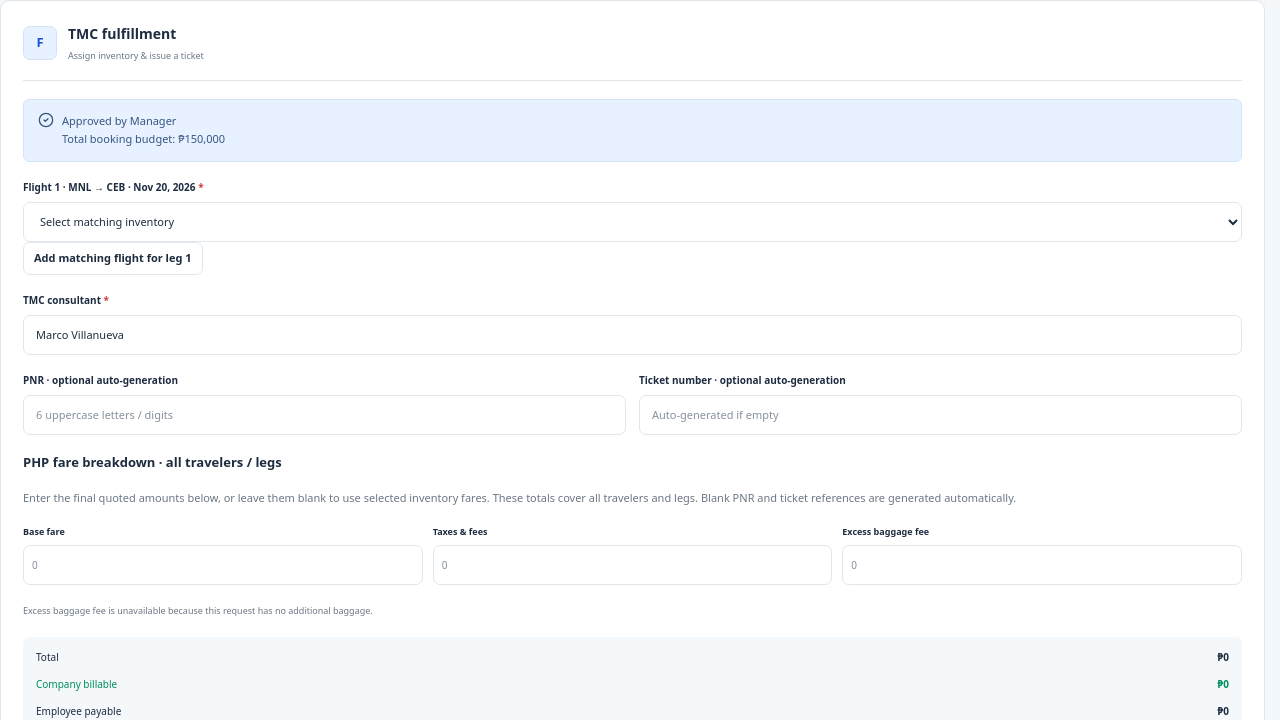
Test: disables baggage fees without baggage and blocks malformed quotes/references
The width and height of the screenshot is (1280, 720).
Select "PR 2845 · Philippine Airlines · 120 seats" in the dropdown labelled "Flight 1 · MNL → CEB · Nov 20, 2026 *" at x=632, y=222, box x1=23 y1=202 x2=1242 y2=242
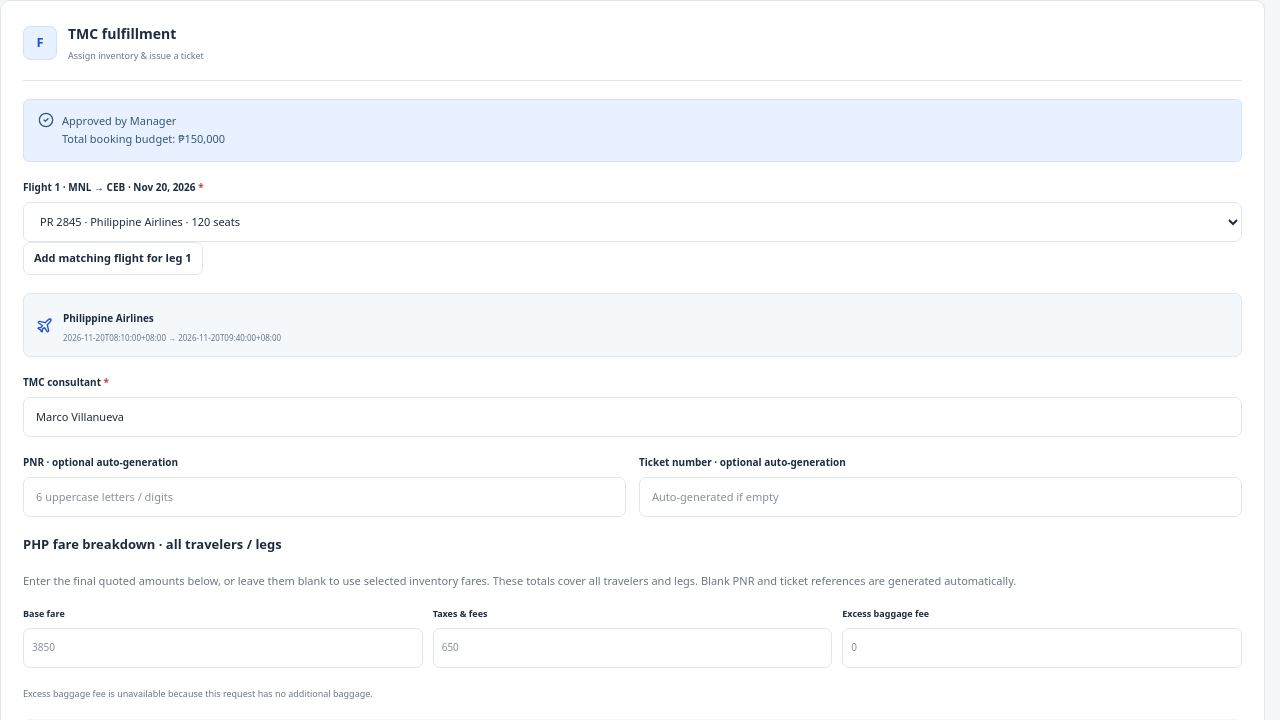
Check: the number field labelled "Excess baggage fee" is disabled, box x1=842 y1=628 x2=1242 y2=668
Type "-1" into the number field labelled "Base fare" at x=223, y=648, box x1=23 y1=628 x2=423 y2=668
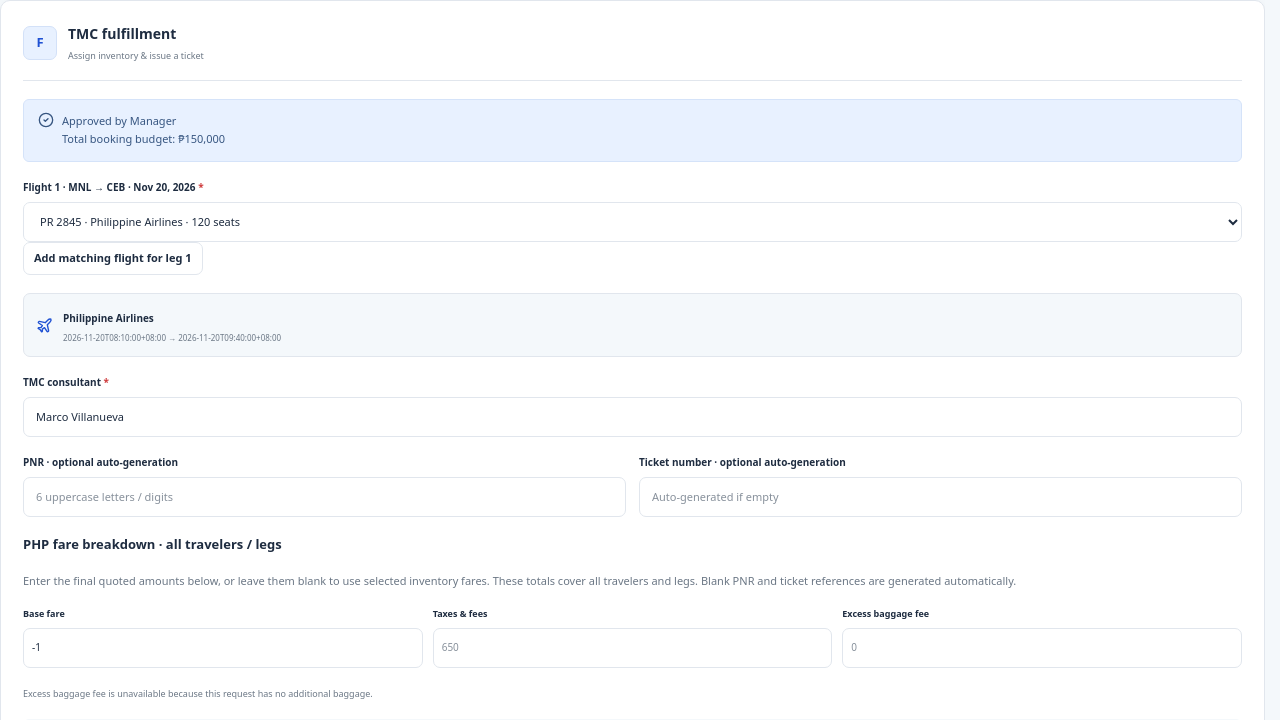
Replace the text in the number field labelled "Base fare" with "1.001" at x=223, y=648, box x1=23 y1=628 x2=423 y2=668
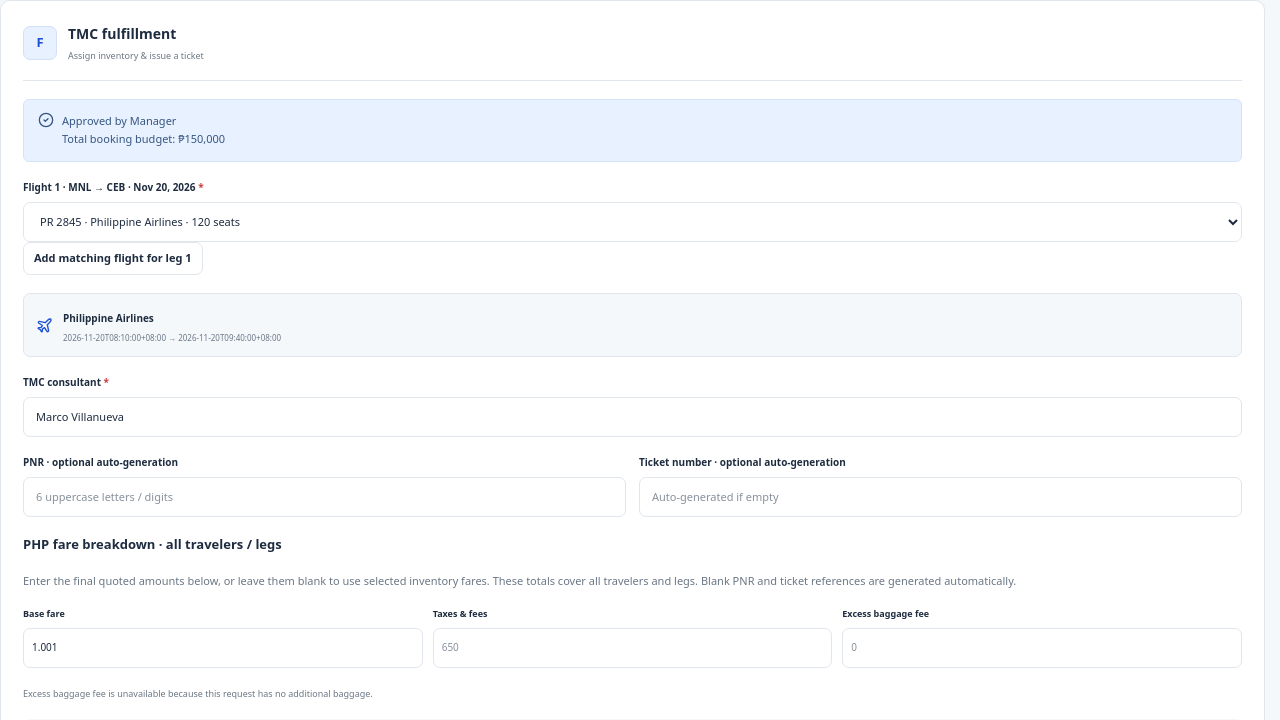
Replace the text in the number field labelled "Base fare" with "100" at x=223, y=648, box x1=23 y1=628 x2=423 y2=668
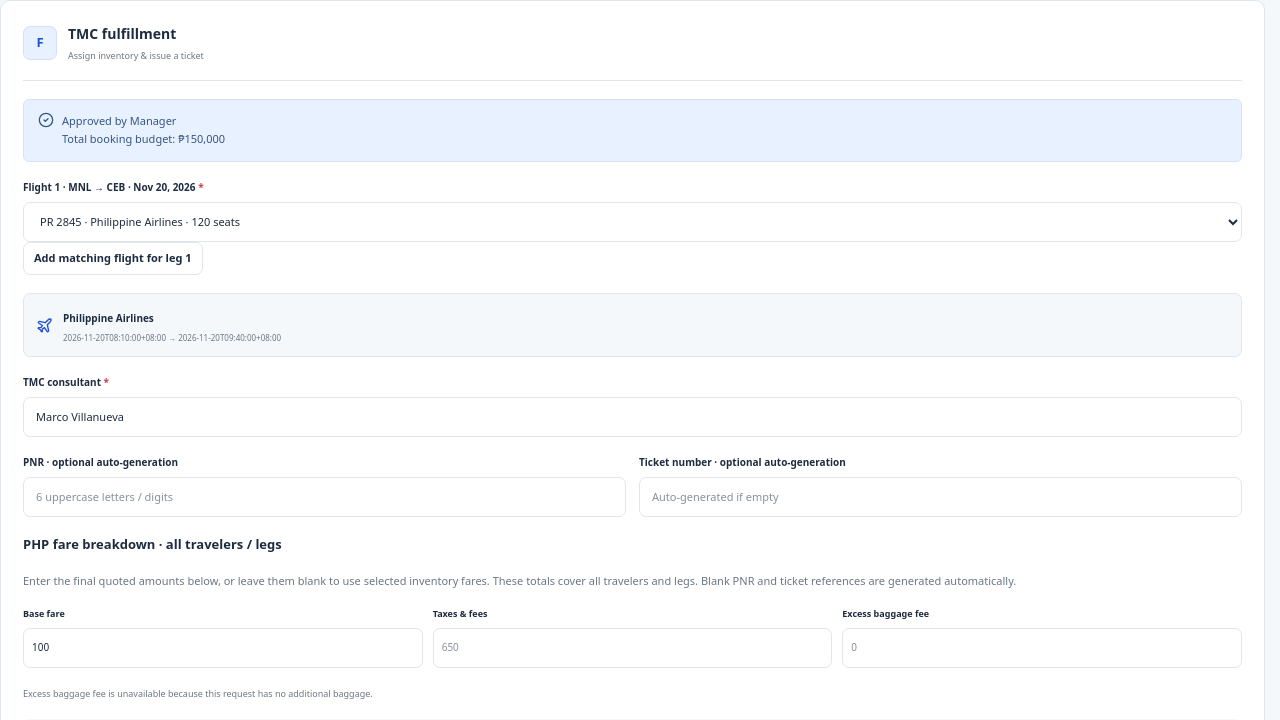
Type "BAD" into the field labelled "PNR · optional auto-generation" at x=324, y=498, box x1=23 y1=478 x2=626 y2=518
(page scrolled)
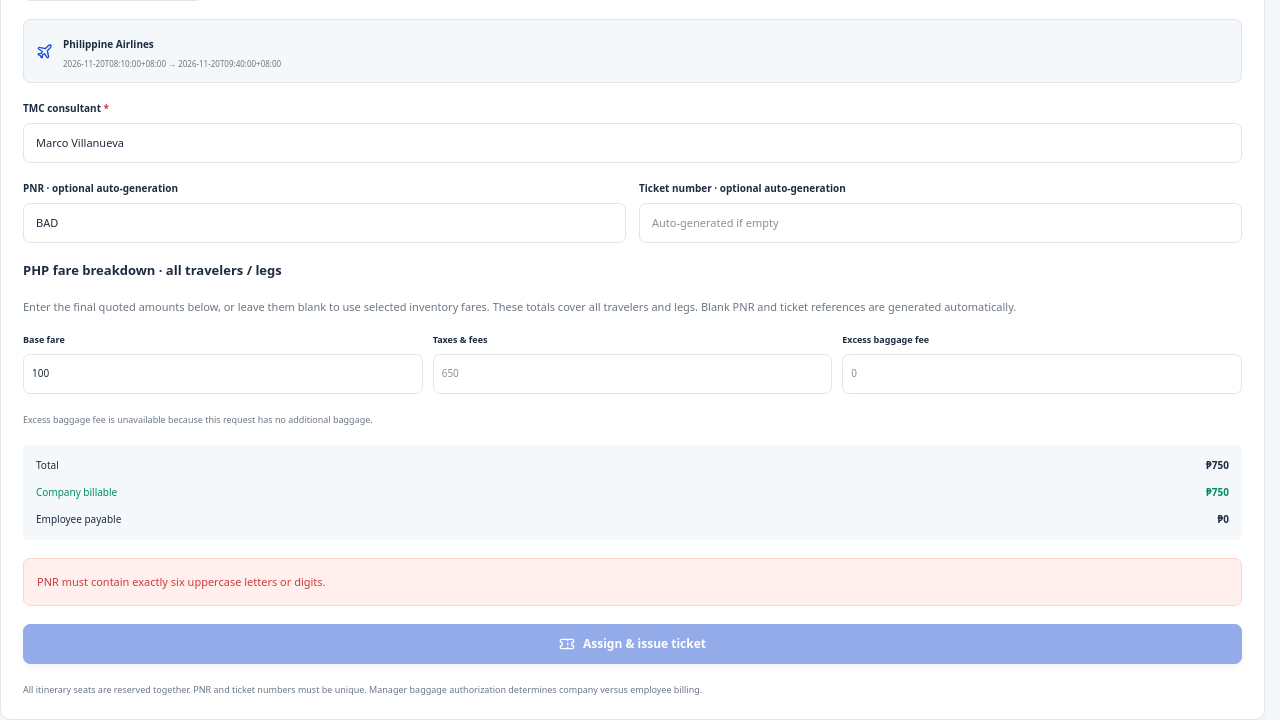
Check: the message shows "six uppercase", box x1=37 y1=574 x2=326 y2=589
